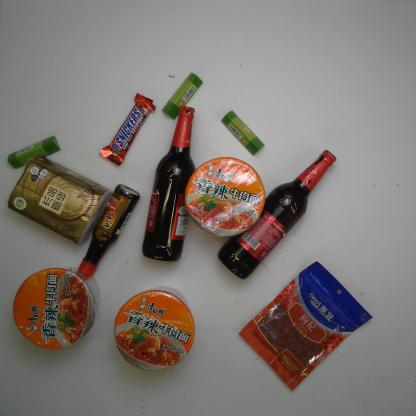Alcohol: (215, 145, 339, 281), (138, 102, 200, 264)
Chocolate: (97, 89, 159, 168)
Dried Fruit: (235, 257, 375, 394)
Instant Noodles: (9, 262, 103, 354), (109, 283, 199, 375), (182, 154, 268, 242)
Seasoner: (74, 180, 143, 281)
Stationery: (218, 108, 268, 157), (160, 69, 205, 122), (5, 132, 63, 170)
Tissue: (6, 152, 116, 247)
